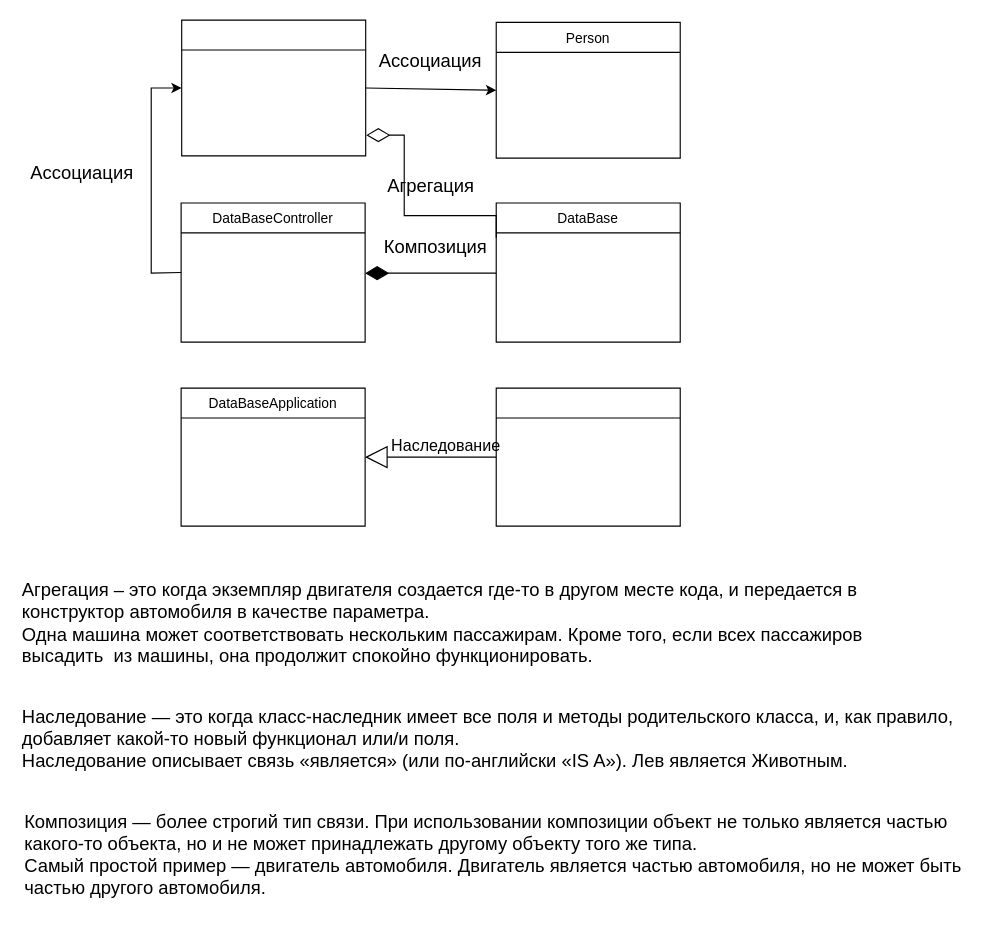
This 987x941 diagram has some shape labels left out. Here are the shapes that lost their labels. From the top down, the centre of each, then its label:
At (x=273, y=87): "NewPersonController".
At (x=587, y=456): "Application".
